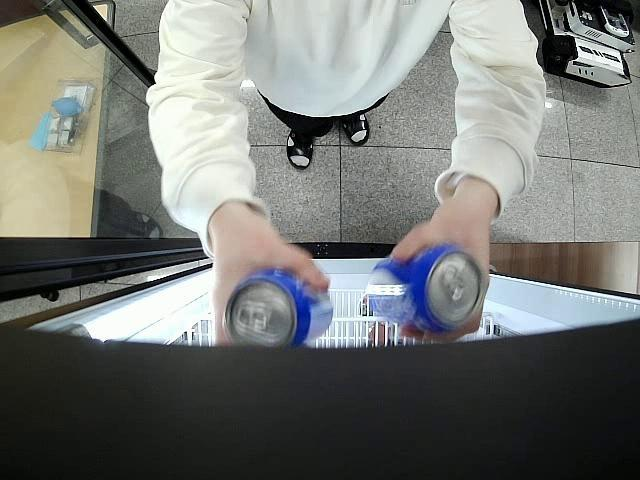13_pocariSweat: (363, 244, 480, 334), (224, 266, 334, 346)
